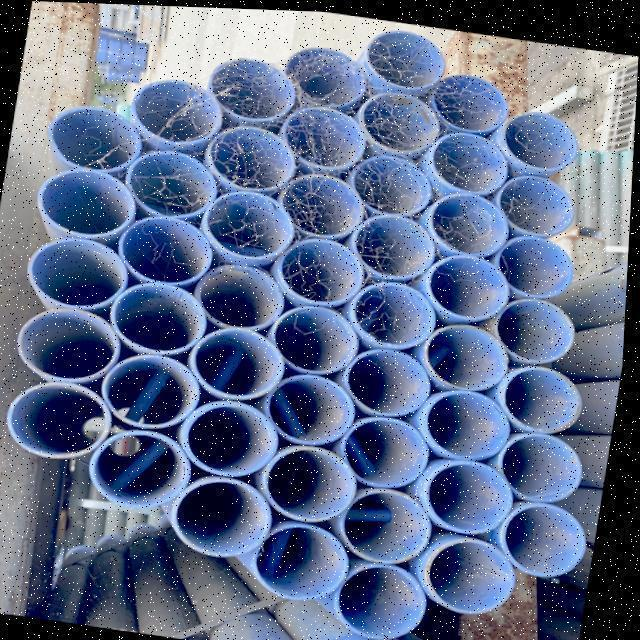pipe: (22, 304, 125, 390), (94, 427, 197, 512), (12, 380, 117, 462), (260, 519, 356, 608), (181, 474, 282, 557), (30, 233, 131, 307), (52, 101, 146, 180), (114, 279, 213, 353), (268, 441, 361, 519), (123, 210, 218, 286), (209, 181, 300, 259), (191, 398, 284, 474), (343, 560, 436, 636), (41, 166, 143, 235), (109, 352, 206, 423), (349, 406, 437, 484), (197, 322, 290, 395), (348, 484, 438, 559), (429, 457, 519, 530), (272, 370, 360, 444), (434, 535, 522, 608), (354, 276, 440, 350), (507, 497, 593, 571), (276, 301, 363, 373), (132, 73, 224, 141), (202, 258, 291, 328), (278, 169, 369, 237), (211, 120, 301, 188), (348, 345, 437, 413), (129, 144, 217, 212), (431, 384, 515, 455), (284, 233, 367, 304), (207, 54, 296, 120), (430, 248, 516, 316), (509, 427, 590, 498), (428, 319, 512, 387), (502, 288, 582, 358), (512, 361, 592, 430), (430, 184, 513, 250), (358, 209, 440, 275), (283, 104, 368, 167), (435, 125, 516, 190), (355, 148, 436, 211), (500, 166, 577, 232), (364, 25, 450, 84), (362, 86, 445, 147), (500, 231, 580, 294), (287, 42, 369, 103), (431, 66, 512, 125), (509, 106, 586, 167)
